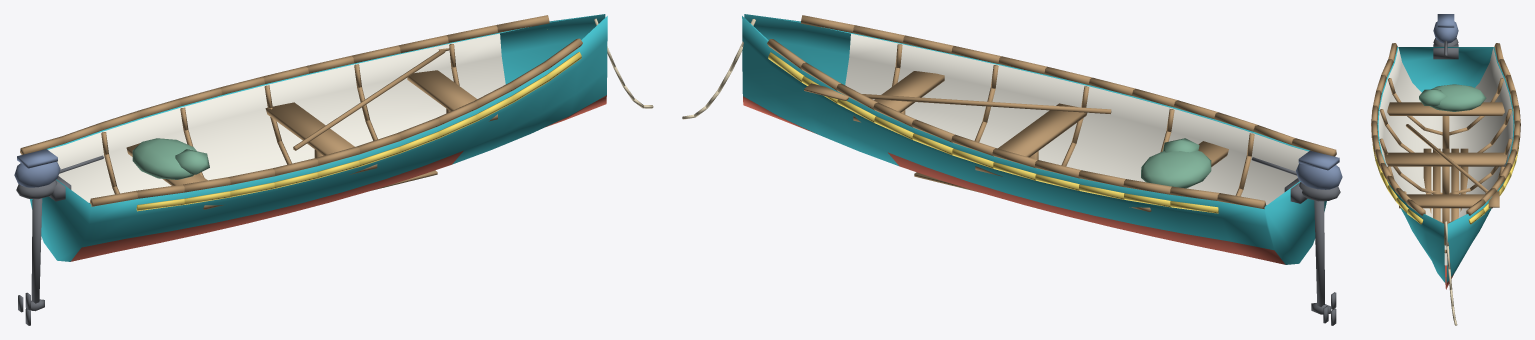
Rendered from lancha.glb.
3 renders of one model, left to right at view 1: azimuth 30°, elevation 25°; view 2: azimuth 150°, elevation 25°; view 3: azimuth 270°, elevation 25°, orthographic. The views are drawn at different scales.
Visible parts, largest first — view 1: FG_Lancha_Casco; view 2: FG_Lancha_Casco; view 3: FG_Lancha_Casco.
Boxes of the visible parts, box(x1,y1,x2,y2) form: FG_Lancha_Casco: box(14, 14, 653, 325); FG_Lancha_Casco: box(682, 14, 1342, 325); FG_Lancha_Casco: box(1371, 14, 1520, 325).
Size of the model in its own units: 6.55 by 1.62 by 1.78.
